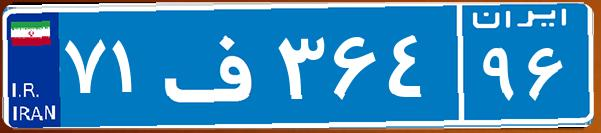1: (110, 28, 158, 105)
3: (273, 28, 330, 110)
4: (385, 28, 445, 110)
6: (330, 28, 385, 110), (525, 38, 570, 115)
7: (57, 26, 110, 107)
9: (475, 38, 525, 113)
ف: (158, 15, 273, 115)
